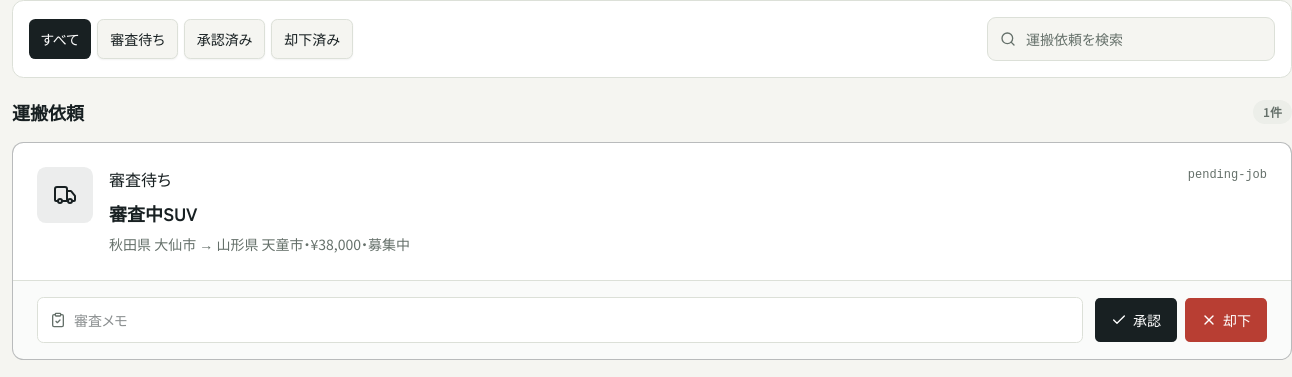
Test: AdminQueue › rejects a transport job
Click the button "却下": (1226, 320) [1185,298,1267,342]
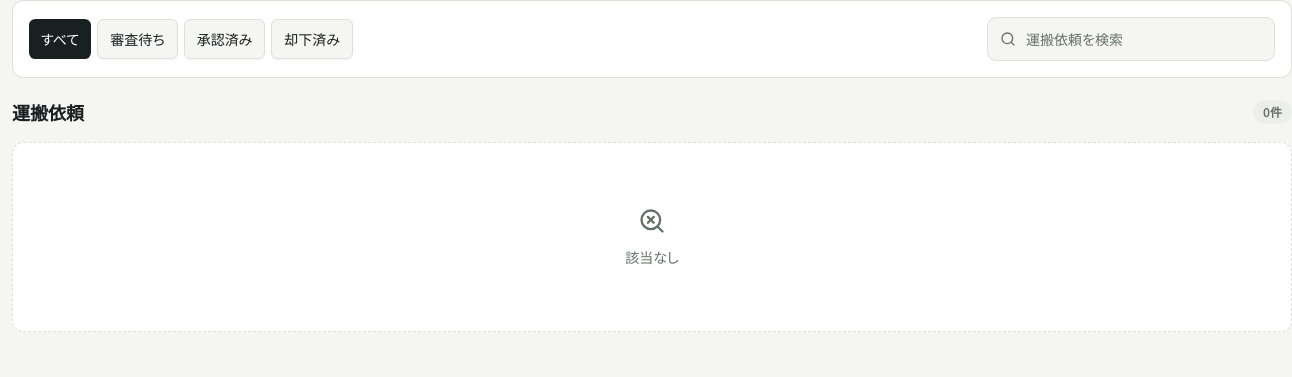
Expected: the text "該当なし" is shown, [625,247,679,267]
